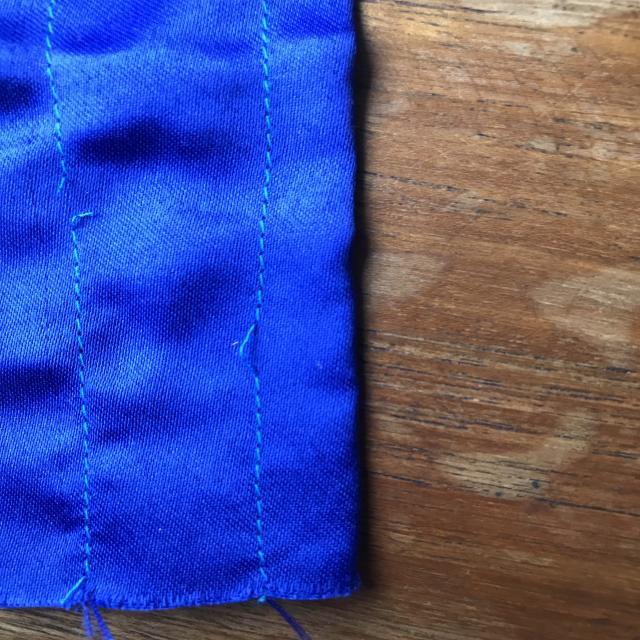broken: (38, 157, 108, 245)
good: (59, 331, 113, 483)
skip: (216, 301, 293, 394)
